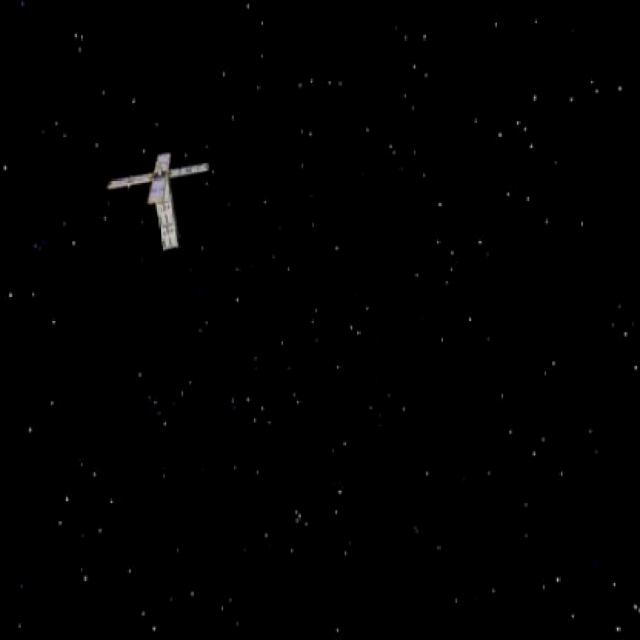medium_debris: (114, 140, 215, 260)
